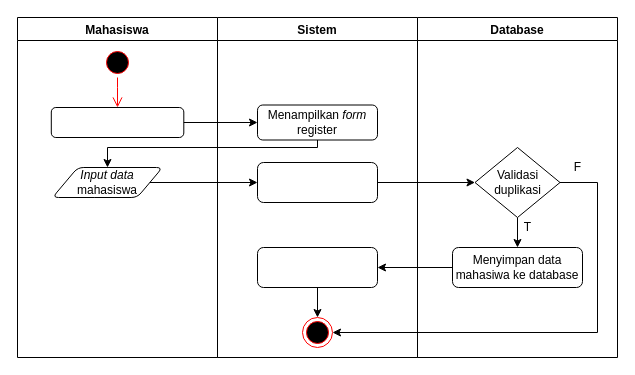
The diagram is 635 pixels wide and 375 high, and some of its shapes have lost their labels. Each missing label, with the centre of its shape:
Data mahasiswa berhasil disimpan: the point at 317,267
Menerima data mahasiswa: the point at 317,182
Mengakses halaman register pada aplikasi: the point at 117,122
